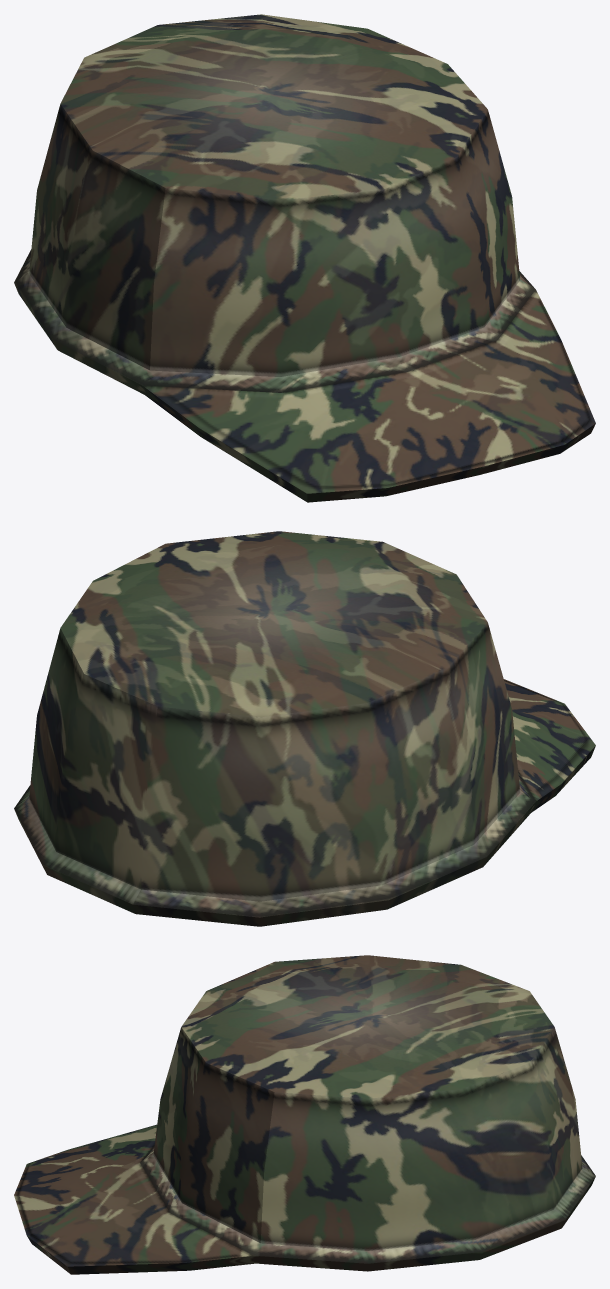
File: ArmyHat.FBX
The picture shows the model from 3 angles, top to bottom: view 1: azimuth 30°, elevation 25°; view 2: azimuth 150°, elevation 25°; view 3: azimuth 270°, elevation 25°; orthographic projection. The views are drawn at different scales.
Visible parts, largest first — view 1: Cylinder001; view 2: Cylinder001; view 3: Cylinder001.
Part boxes in pixels (x1,y1,x2,y2): Cylinder001: (14, 14, 595, 502); Cylinder001: (14, 531, 595, 926); Cylinder001: (14, 955, 595, 1274).
Size of the model in its own units: 136 by 72.49 by 190.
